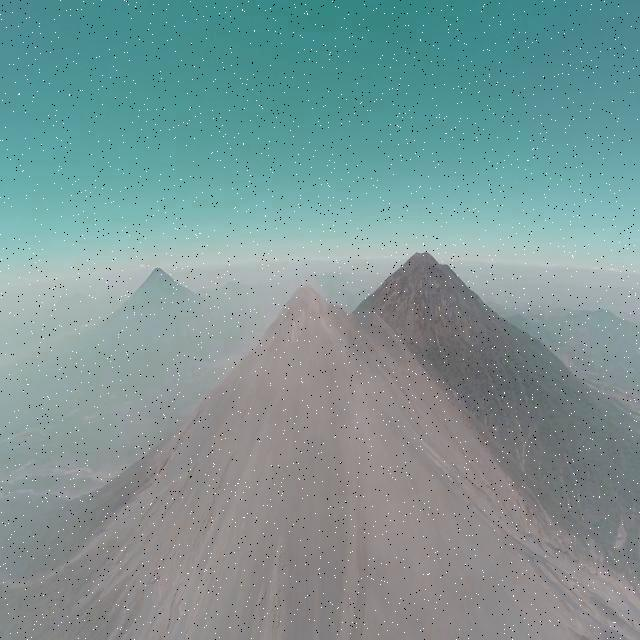Summit: (254, 281, 350, 351)
